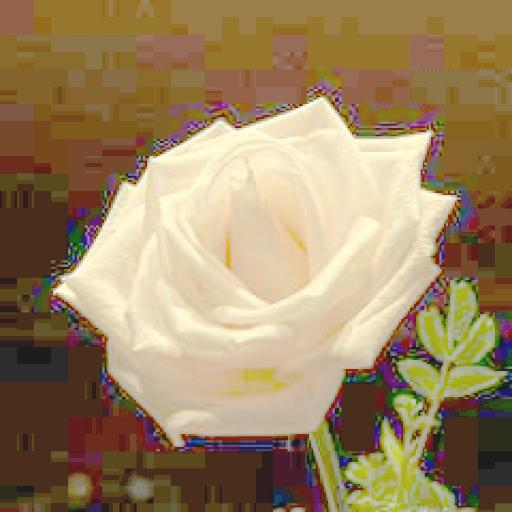rose: (58, 93, 454, 443)
